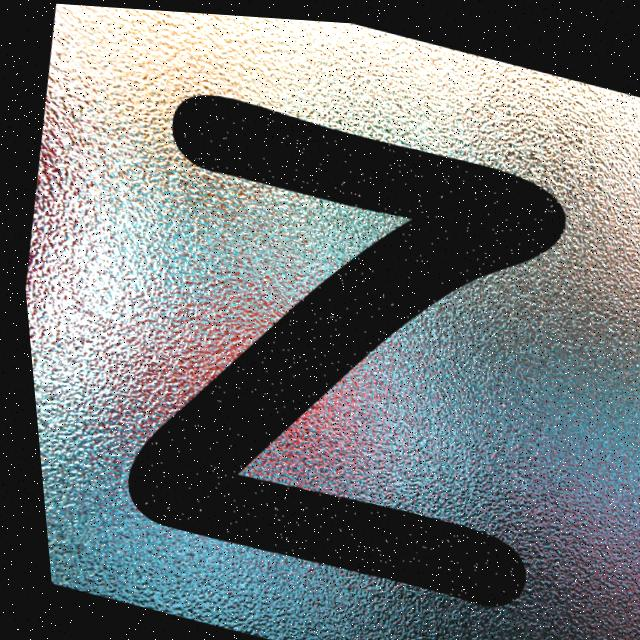Z: (120, 93, 562, 600)
